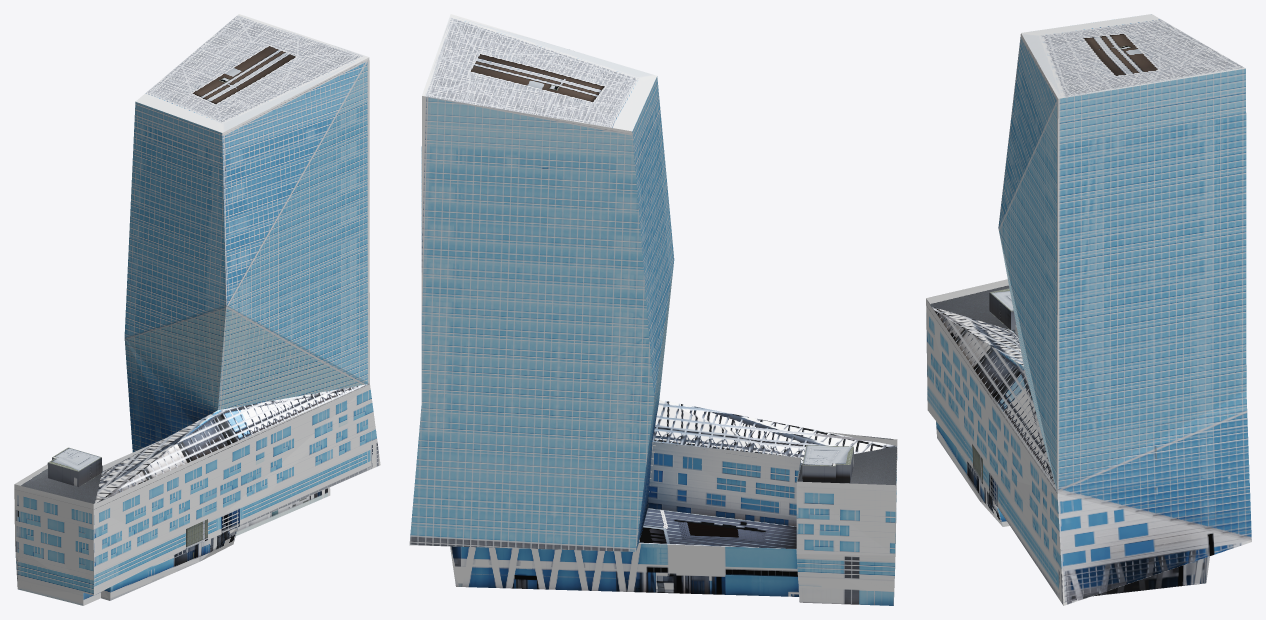
3 views of the same model, side by side, from view 1: azimuth 30°, elevation 25°; view 2: azimuth 150°, elevation 25°; view 3: azimuth 270°, elevation 25° (orthographic). The views are drawn at different scales.
Visible parts, largest first — view 1: 2.14-A.001; view 2: 2.14-A.001; view 3: 2.14-A.001.
Boxes of the visible parts, x1,y1,x2,y2 form: 2.14-A.001: (14, 14, 380, 605); 2.14-A.001: (409, 14, 897, 605); 2.14-A.001: (926, 14, 1251, 605).
Bounding box in the file's own units: 104 × 112 × 63.34.
Materials: 2 (2 with a texture image).
